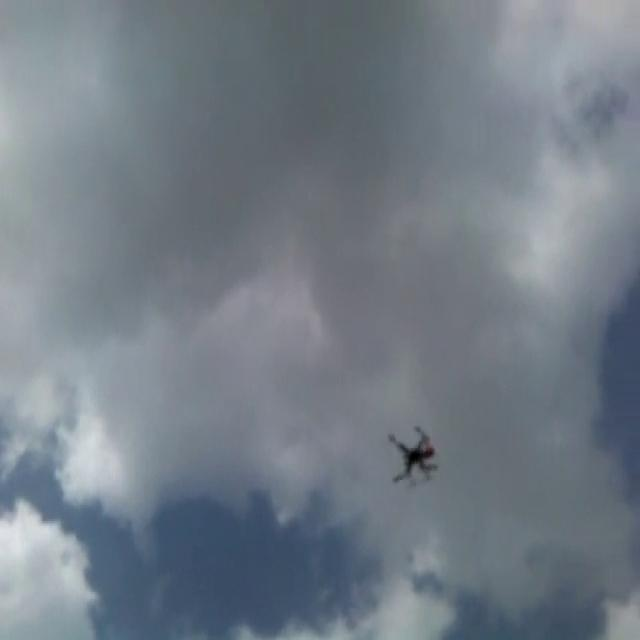drone: (384, 418, 439, 485)
